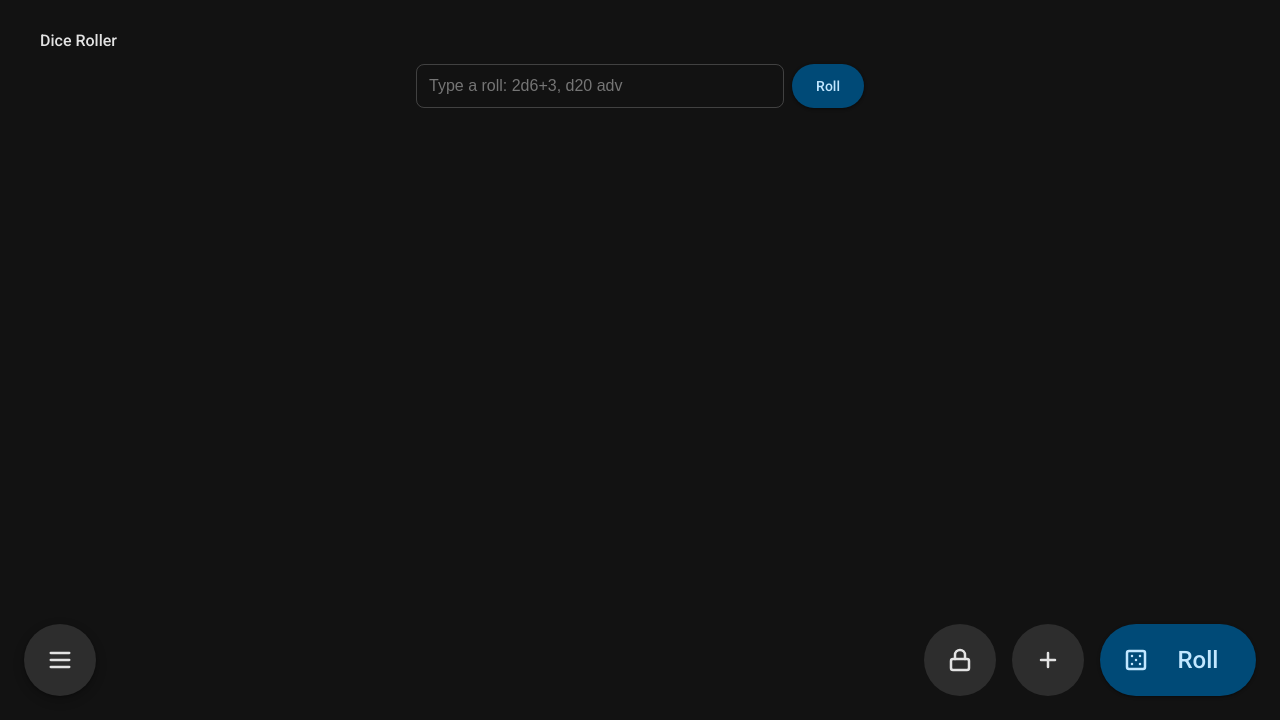
it: Type a roll box › typing 2d6+3 puts out two d6 with +3 and rolls once; Undo brings the old dice back
Type "2d6+3" into the field labelled "Type a roll: 2d6+3, d20 adv".
click(600, 86); type("2d6+3")  # box x1=416 y1=64 x2=784 y2=108
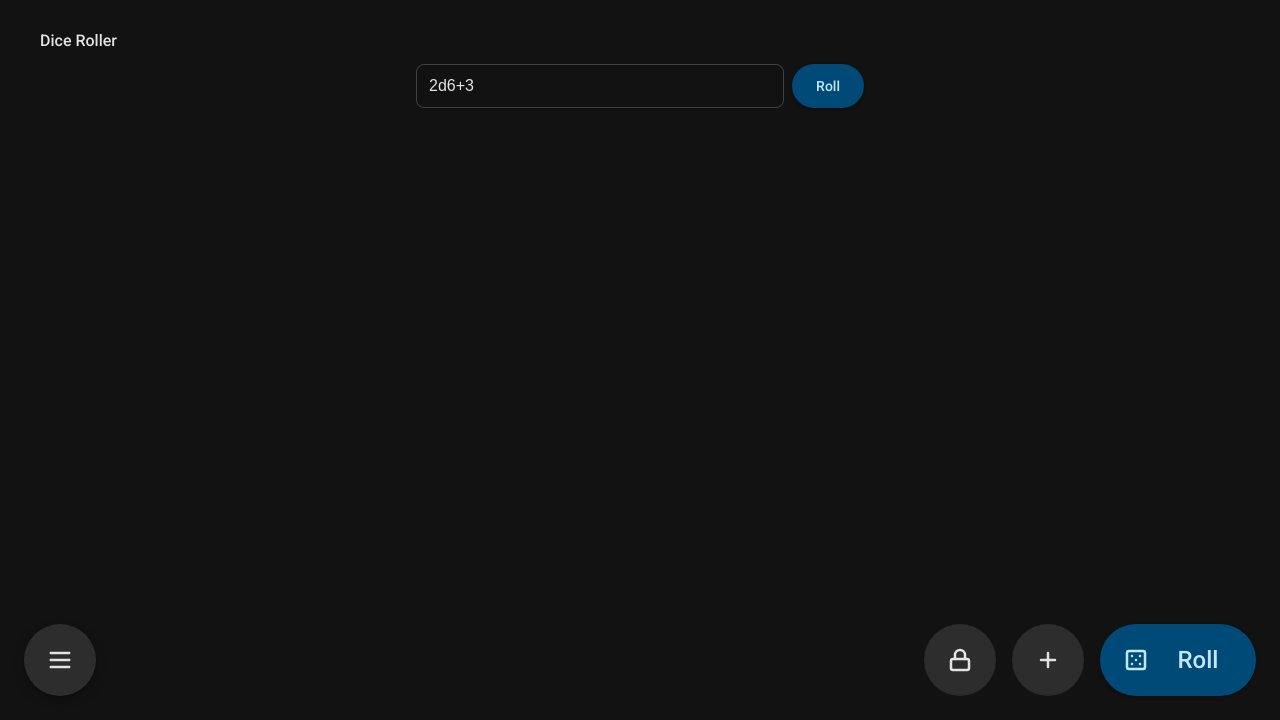
Submit the form named "Type a roll", box x1=400 y1=64 x2=880 y2=108
Wait 850 ms
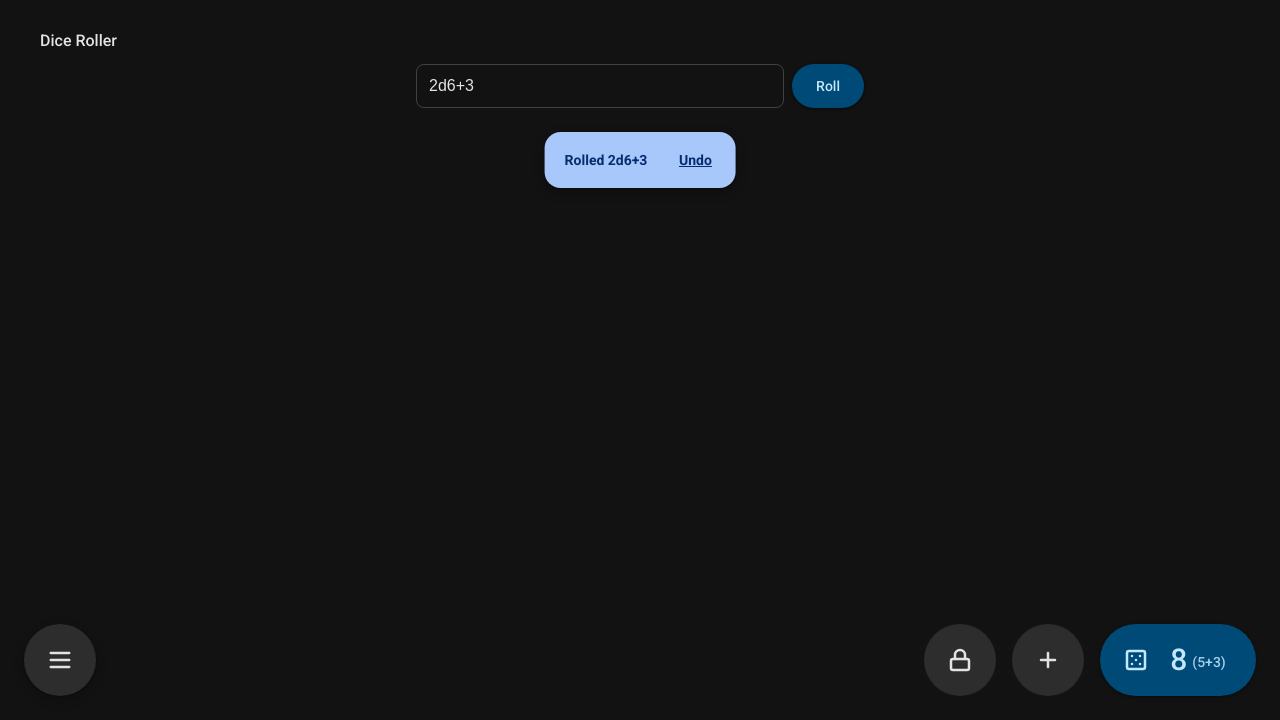
Check: the text "Rolled 2d6+3" is shown, box x1=565 y1=152 x2=647 y2=168
Click the button "Undo".
click(695, 160)  # box x1=663 y1=138 x2=727 y2=182
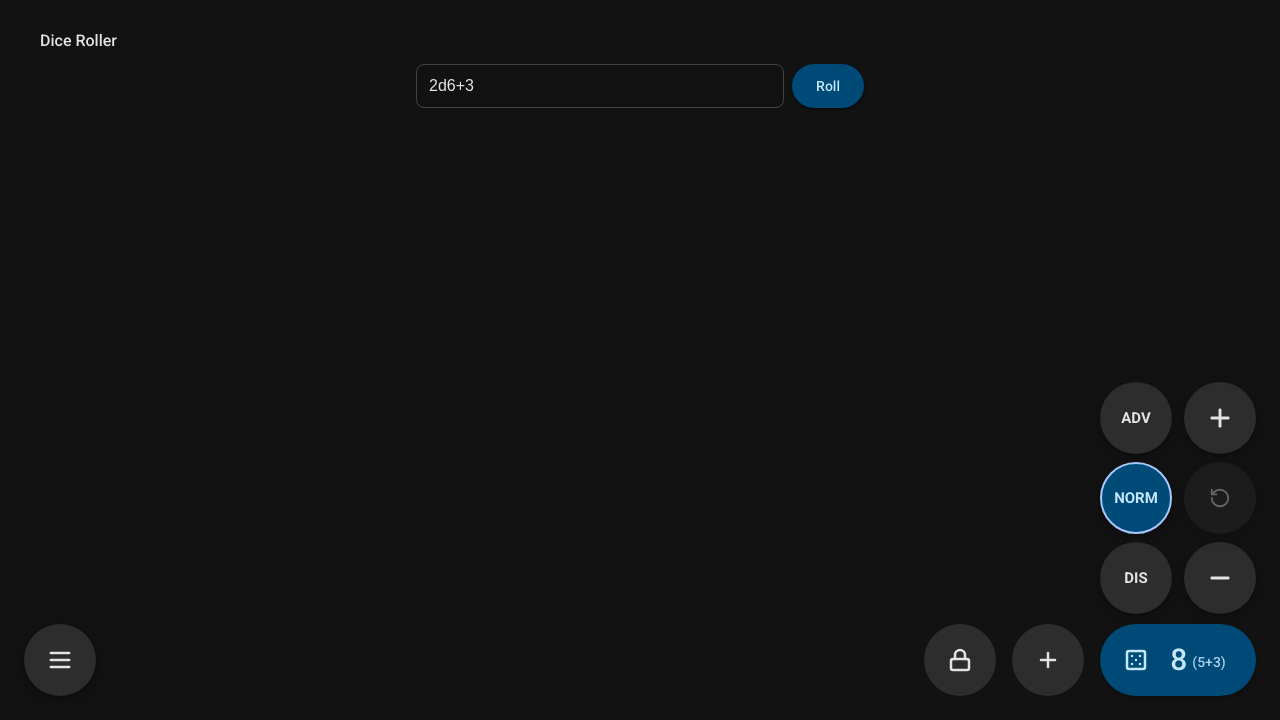
Check: the button named "Reset modifier" is disabled, box x1=1184 y1=462 x2=1256 y2=534
